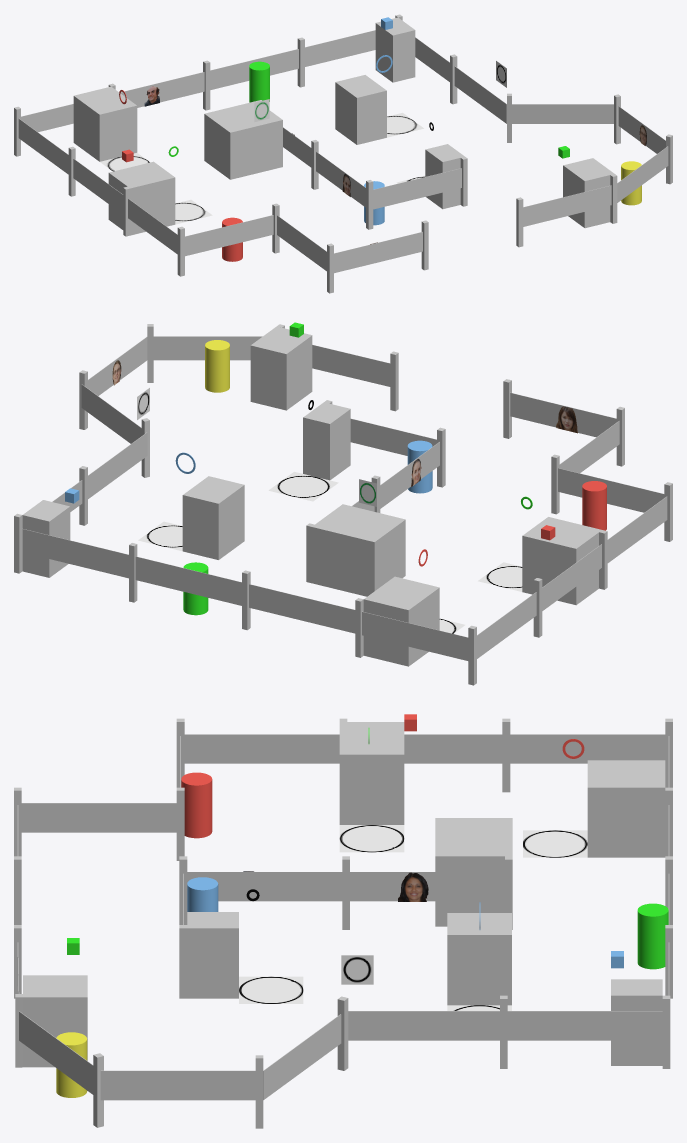
Rendered from rins_2022_task2_p1.dae.
The picture shows the model from 3 angles, top to bottom: view 1: azimuth 30°, elevation 25°; view 2: azimuth 150°, elevation 25°; view 3: azimuth 270°, elevation 25°; orthographic projection. The views are drawn at different scales.
Parts seen in each view (by area): view 1: rins_2022_task2_p1; view 2: rins_2022_task2_p1; view 3: rins_2022_task2_p1.
Boxes of the visible parts, x1,y1,x2,y2 form: rins_2022_task2_p1: (14, 14, 672, 293); rins_2022_task2_p1: (14, 322, 672, 685); rins_2022_task2_p1: (14, 714, 672, 1128).
Size of the model in its own units: 6.22 by 5.1 by 0.95.
14 materials, 8 textured.
